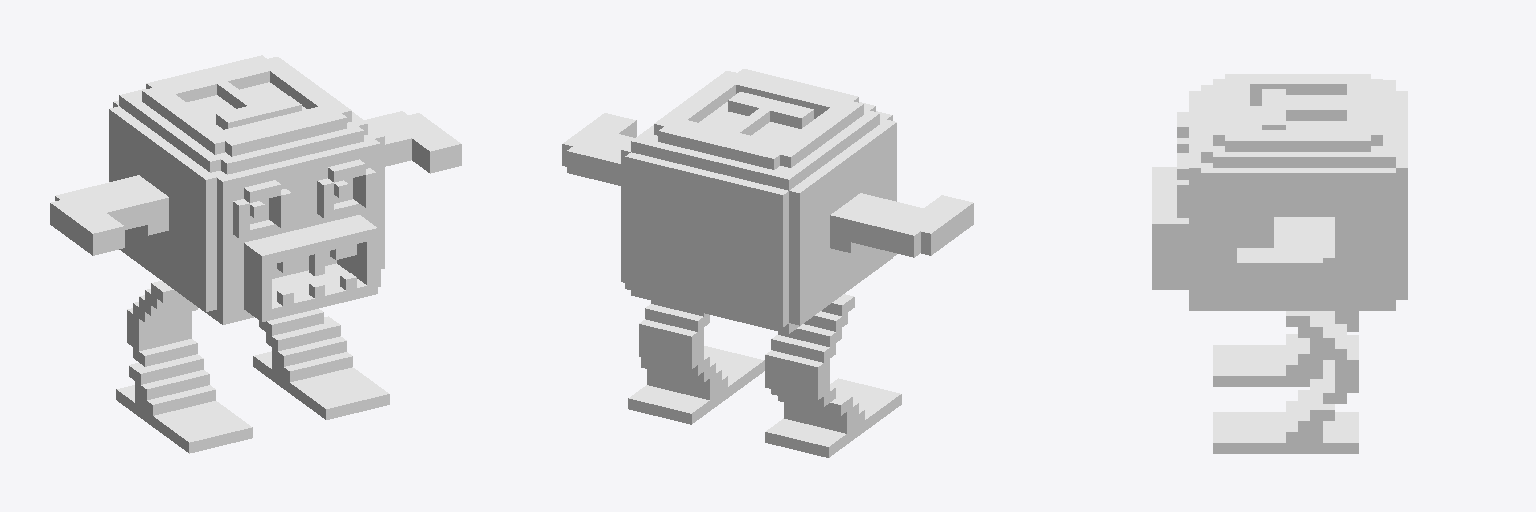
Rendered from jumpman.obj.
3 renders of one model, left to right at view 1: azimuth 30°, elevation 25°; view 2: azimuth 150°, elevation 25°; view 3: azimuth 270°, elevation 25°, orthographic.
Size of the model in its own units: 35 by 27 by 21.